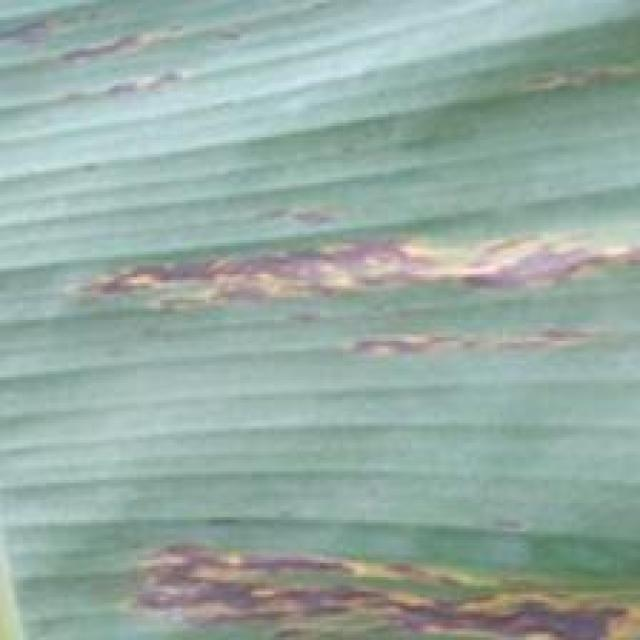Early_leaf_spot: (23, 177, 640, 377), (103, 483, 640, 637), (12, 0, 238, 107)
